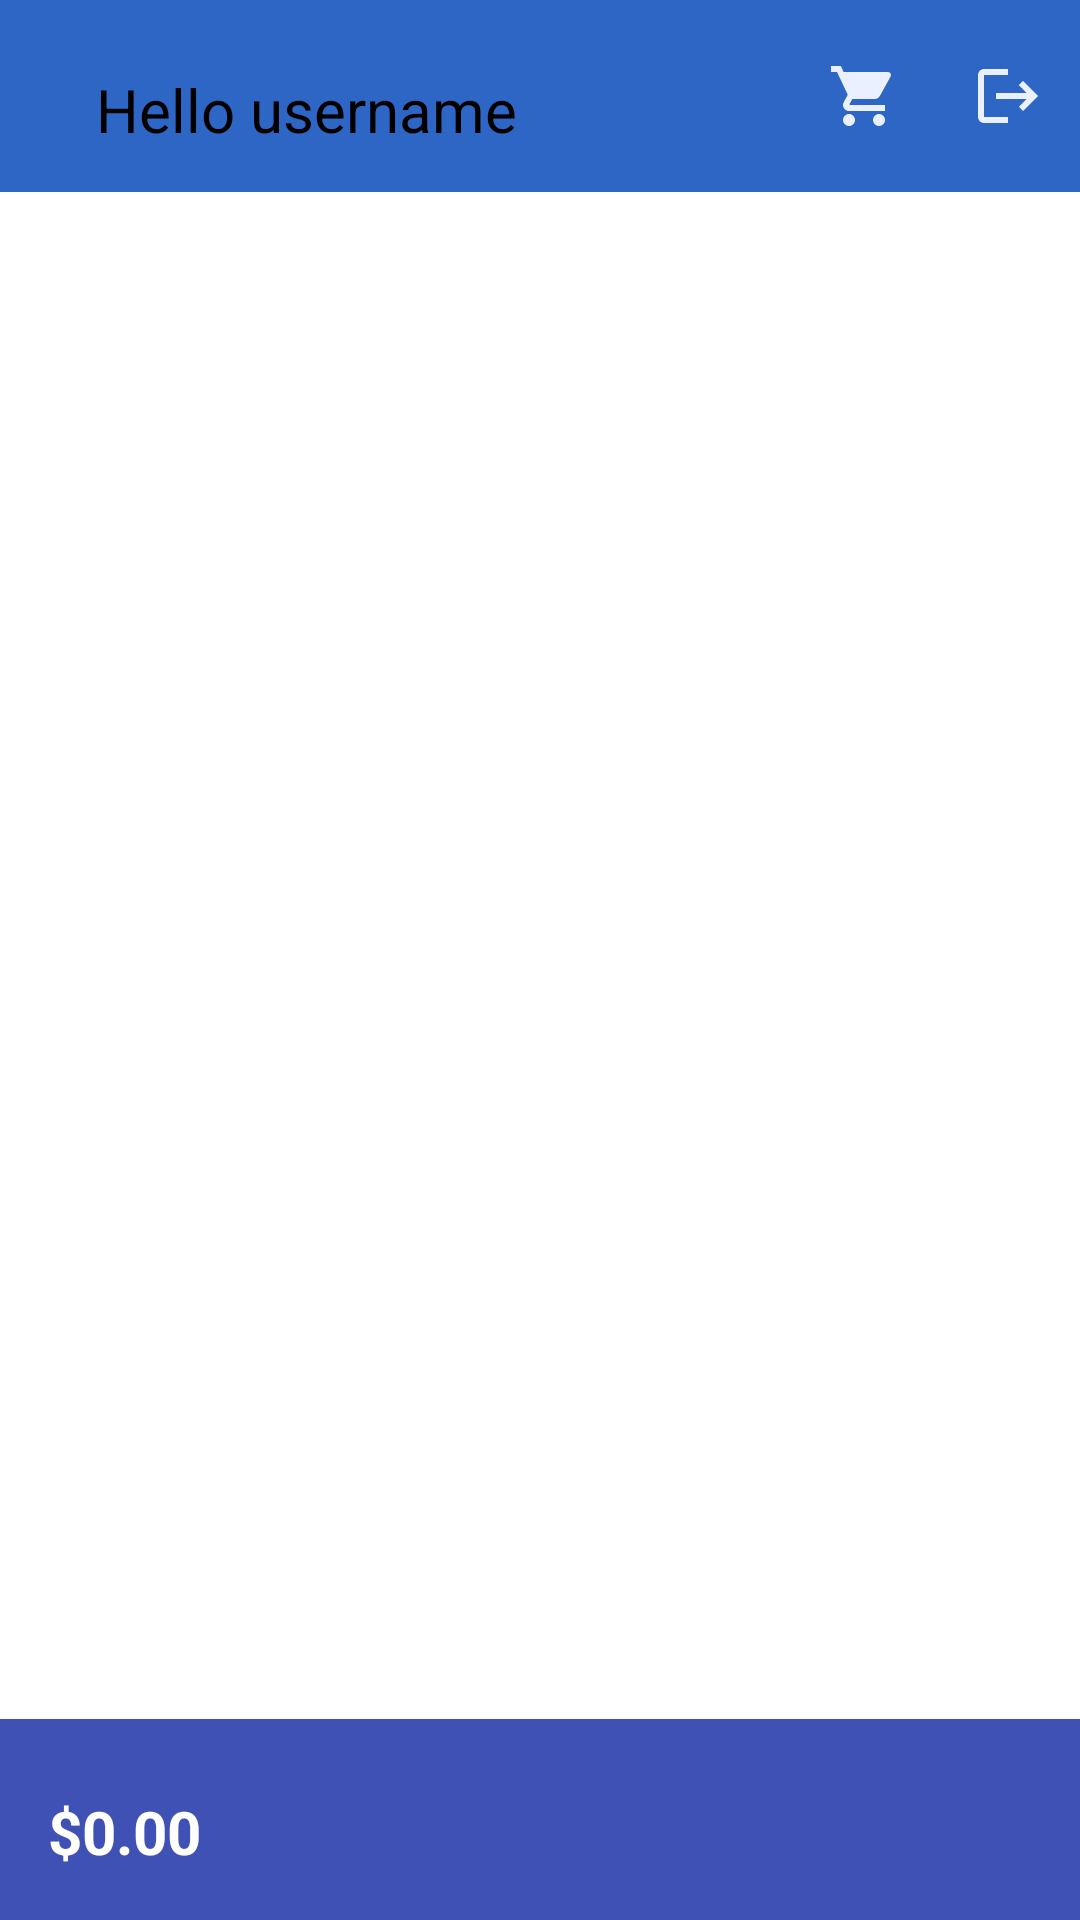

Icons on this 1080 x 1920 Android screen, each with its box as rect(x1, y1, x2, y2):
shopping cart: rect(831, 66, 891, 126)
